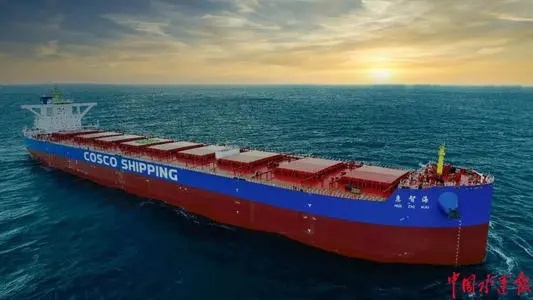Cargoship: (18, 86, 493, 268)
